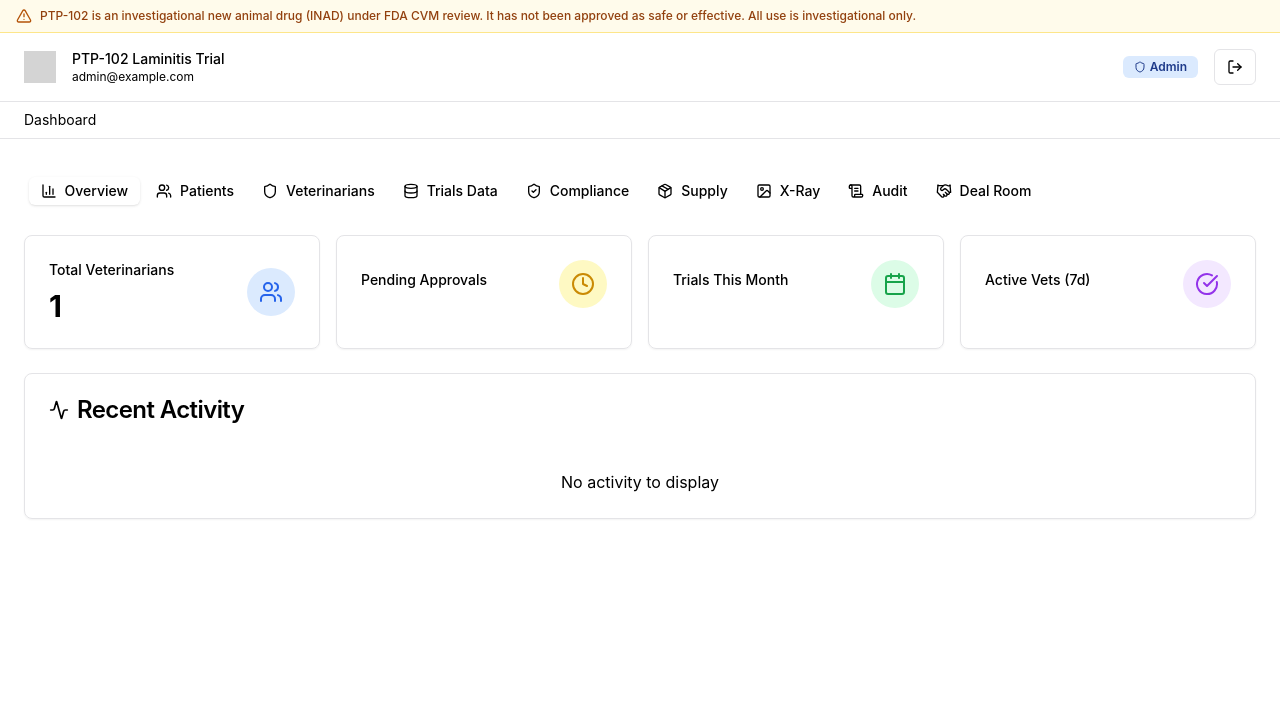
Test: MasterTrialsTable — Trial Data tab does not crash on missing vet email › renders the trials table when patient rows have no veterinarian email
Expected: the text "Admin" is shown, [1123, 56, 1198, 78]
Click the tab "Trials Data".
click(450, 191)  # box [391, 177, 510, 205]
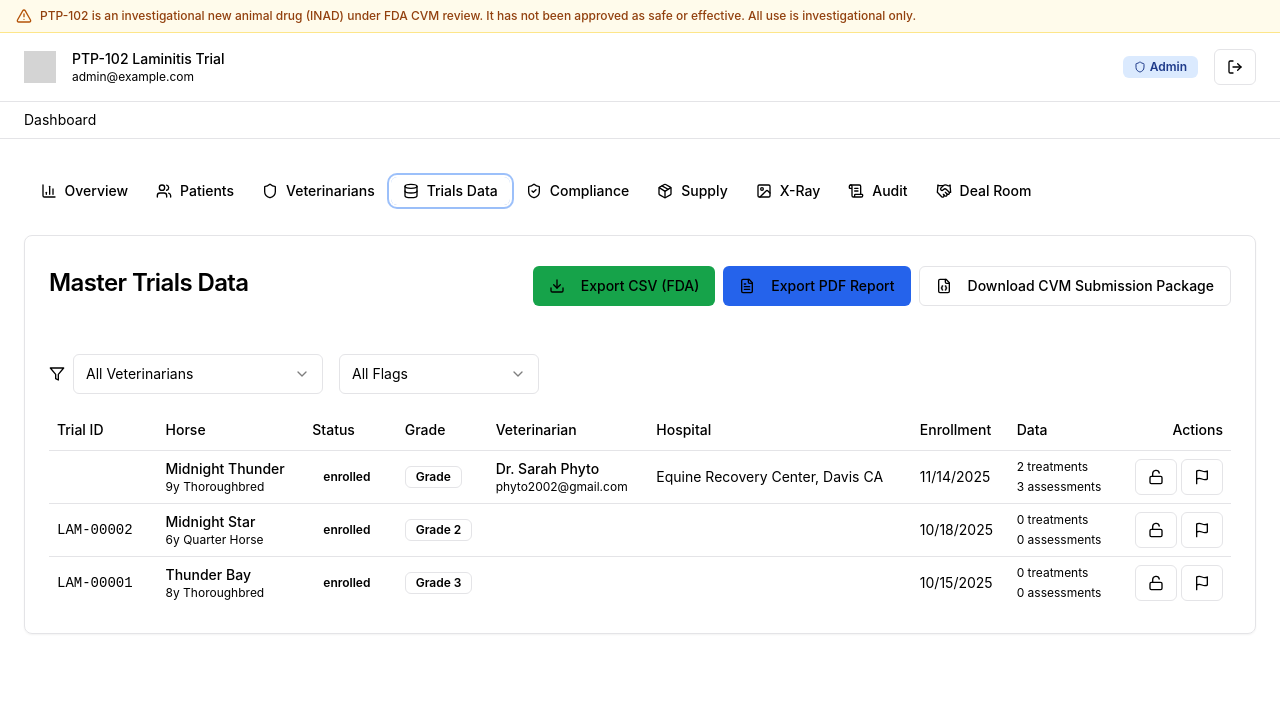
Now the heading "Master Trials Data" is shown, box [49, 267, 248, 299]
Now the text "LAM-00001" is shown, box [57, 572, 133, 592]
Now the text "LAM-00002" is shown, box [57, 520, 133, 540]
